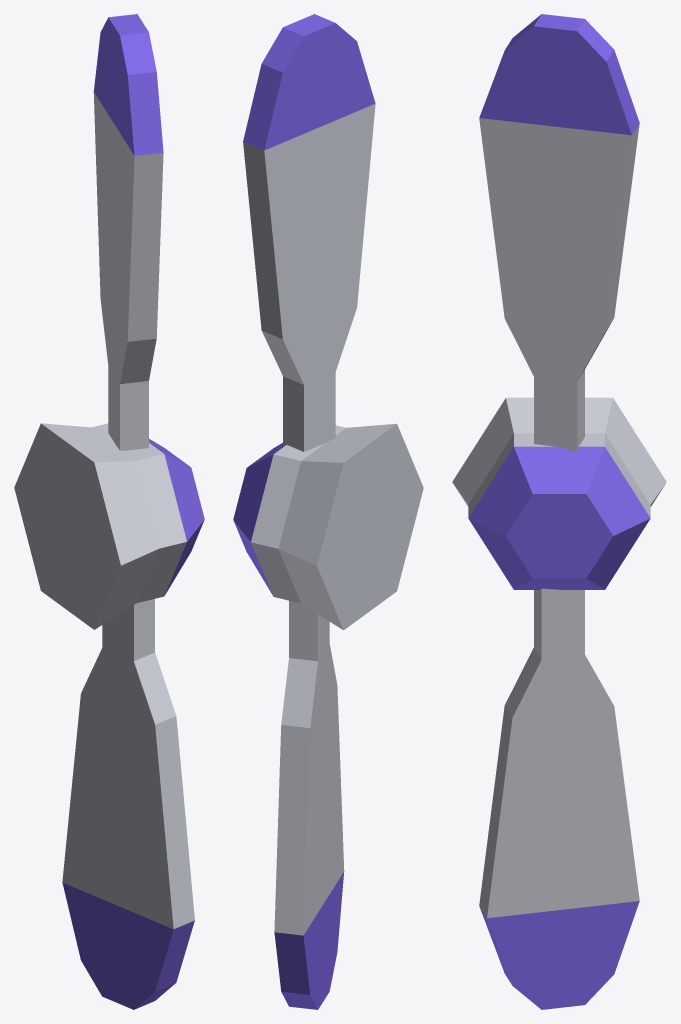
File: helicopter_tail.glb
The picture shows the model from 3 angles, left to right: view 1: azimuth 30°, elevation 25°; view 2: azimuth 150°, elevation 25°; view 3: azimuth 270°, elevation 25°; orthographic projection.
Visible parts, largest first — view 1: mergedBlocks(Clone); view 2: mergedBlocks(Clone); view 3: mergedBlocks(Clone).
Part boxes in pixels (box(x1,y1,x2,y2)): mergedBlocks(Clone): box(14, 14, 204, 1009); mergedBlocks(Clone): box(233, 14, 423, 1009); mergedBlocks(Clone): box(452, 14, 666, 1009).
Size of the model in its own units: 0.2536 by 2.14 by 0.425.
